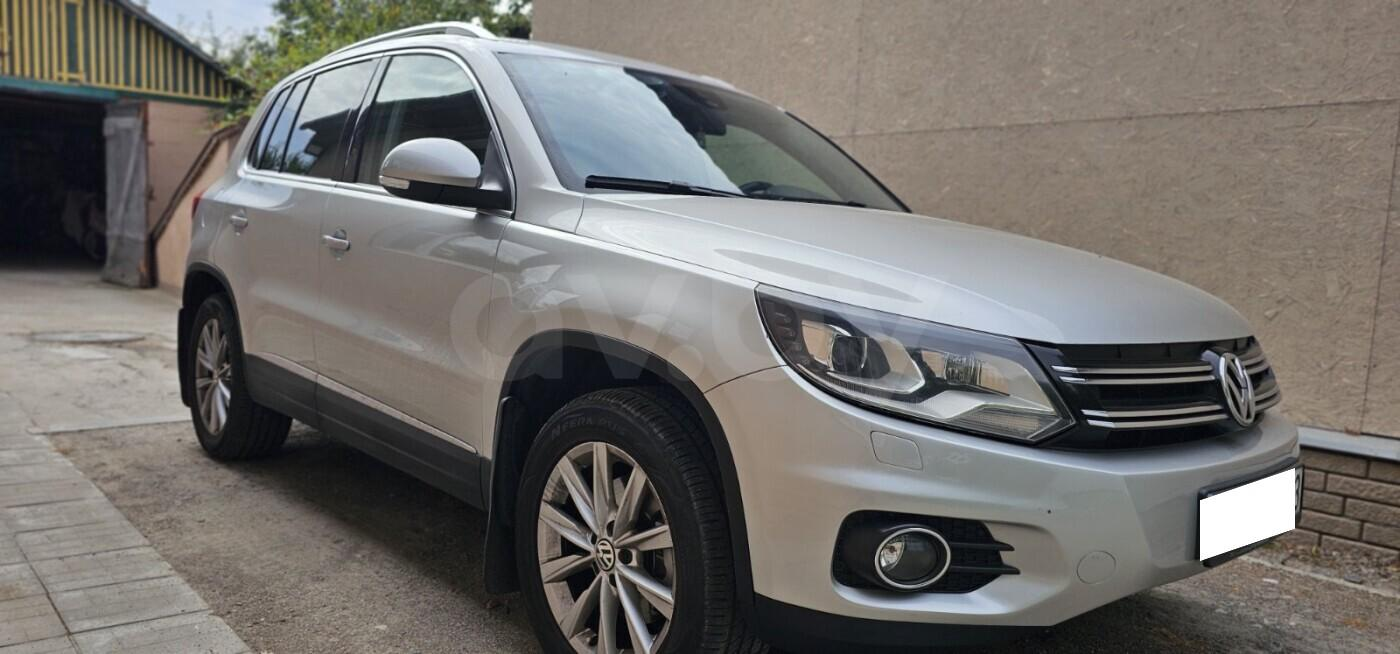Tiguan_2011-2018: (176, 33, 1307, 654)
